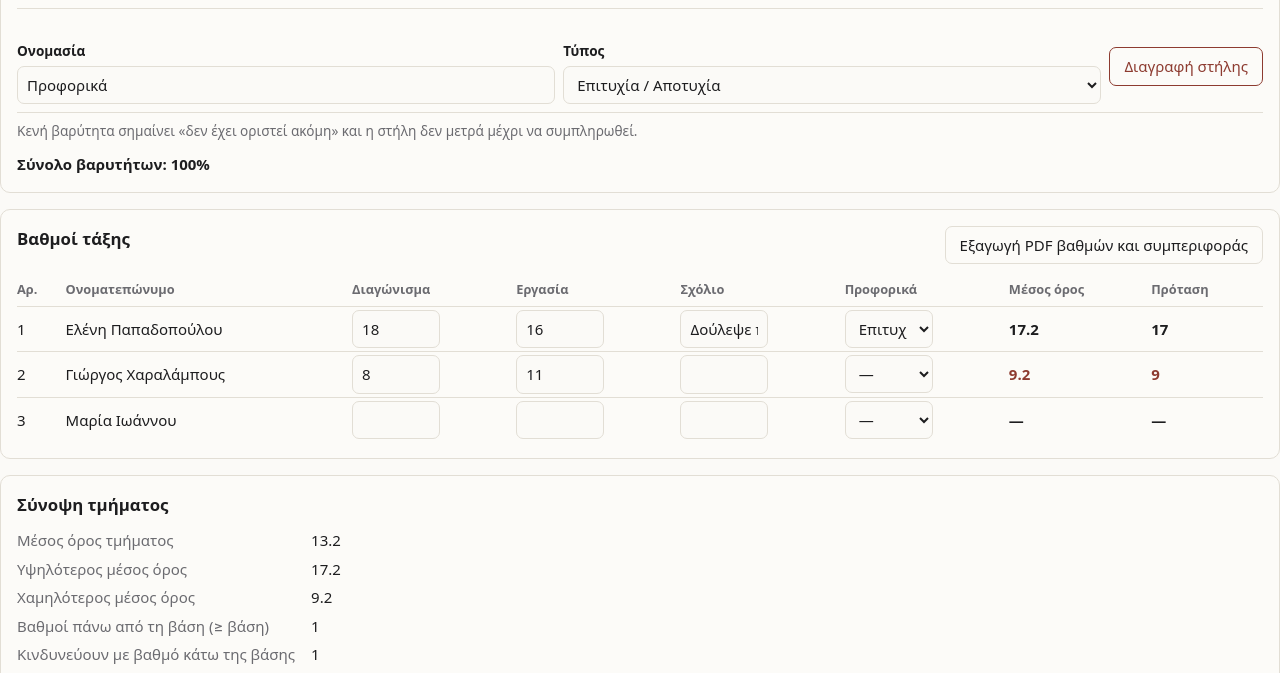
Test: the gradebook › recomputes the average when a mark is changed
This screenshot has width=1280, height=673.
(page scrolled)
Replace the text in the field named "Διαγώνισμα · Ελένη Παπαδοπούλου" with "10" at x=396, y=329, box x1=352 y1=310 x2=440 y2=348
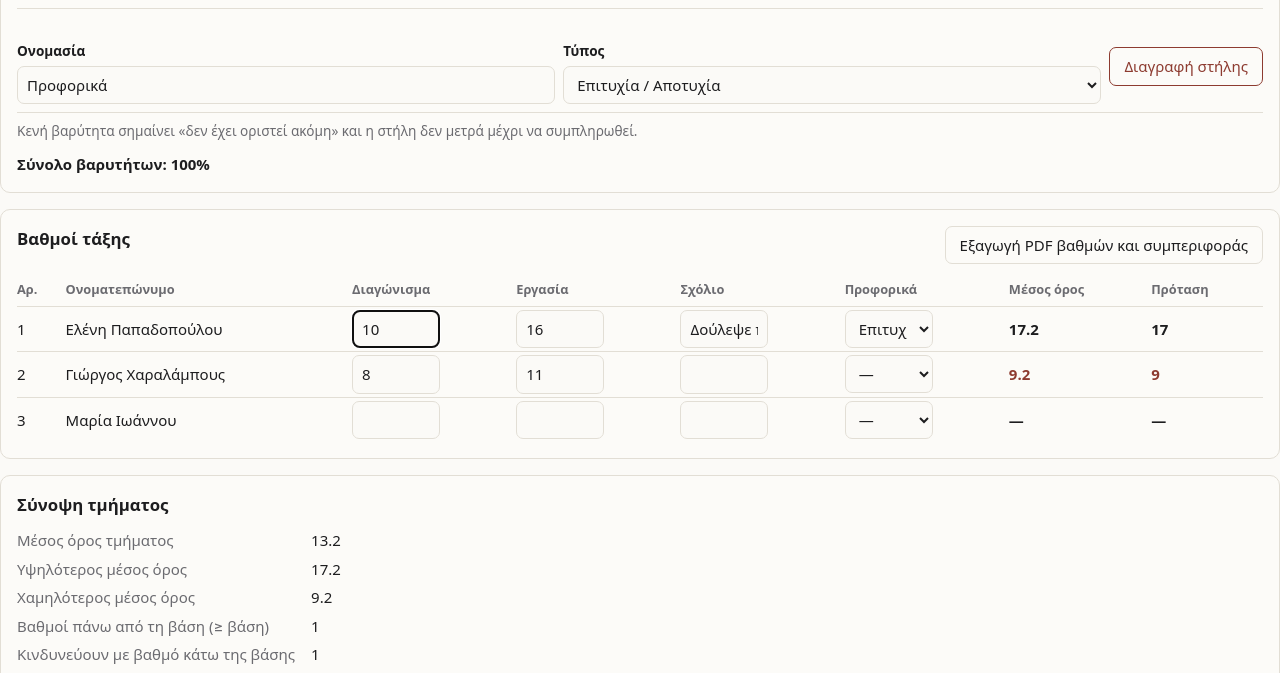
Press Tab
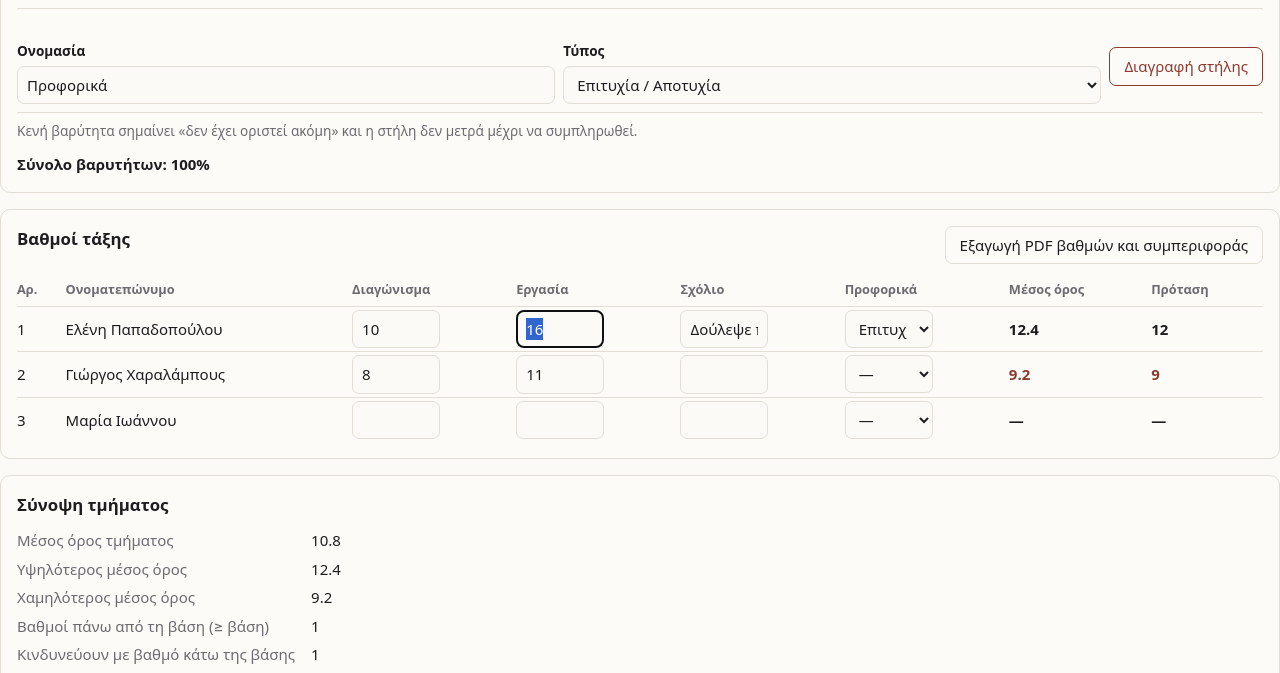
Expected: the text "12.4" is shown, x1=1009 y1=306 x2=1151 y2=352
Expected: the text "12" is shown, x1=1151 y1=306 x2=1263 y2=352
